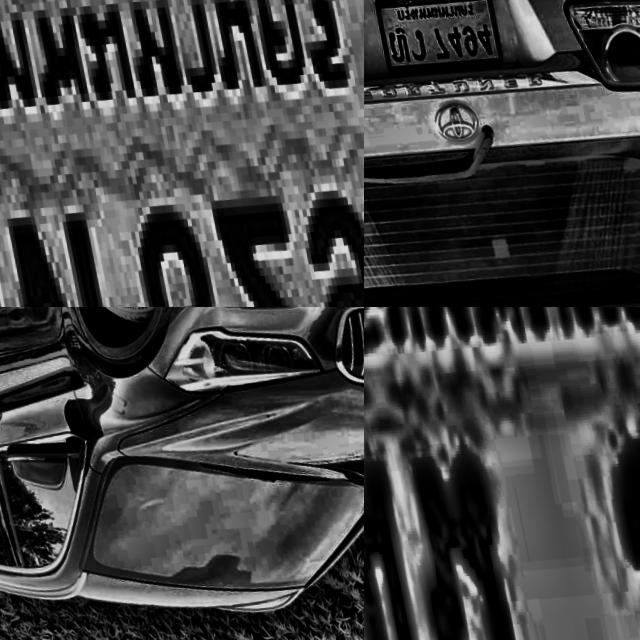license-plate: (0, 0, 364, 307), (364, 307, 640, 640), (366, 0, 499, 78)
